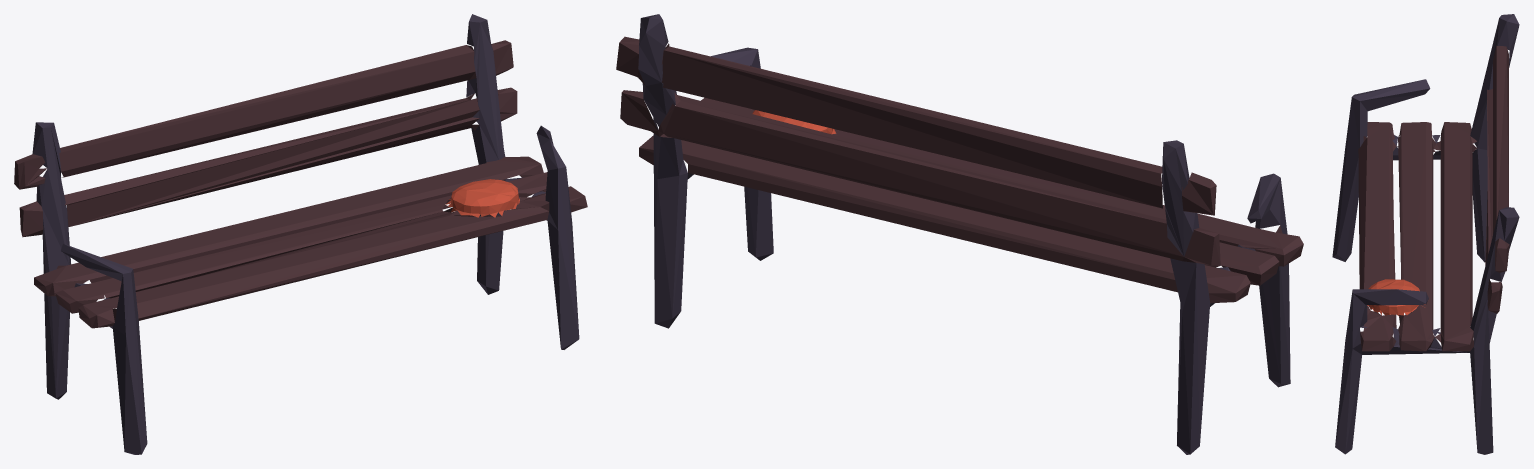
File: bench.glb
The picture shows the model from 3 angles, left to right: view 1: azimuth 30°, elevation 25°; view 2: azimuth 150°, elevation 25°; view 3: azimuth 270°, elevation 25°; orthographic projection. The views are drawn at different scales.
Visible parts, largest first — view 1: bench; view 2: bench; view 3: bench.
Part boxes in pixels (x1,y1,x2,y2): bench: (14,14,587,454); bench: (616,14,1303,454); bench: (1332,14,1519,454).
Size of the model in its own units: 1.84 by 0.9529 by 0.6539.
